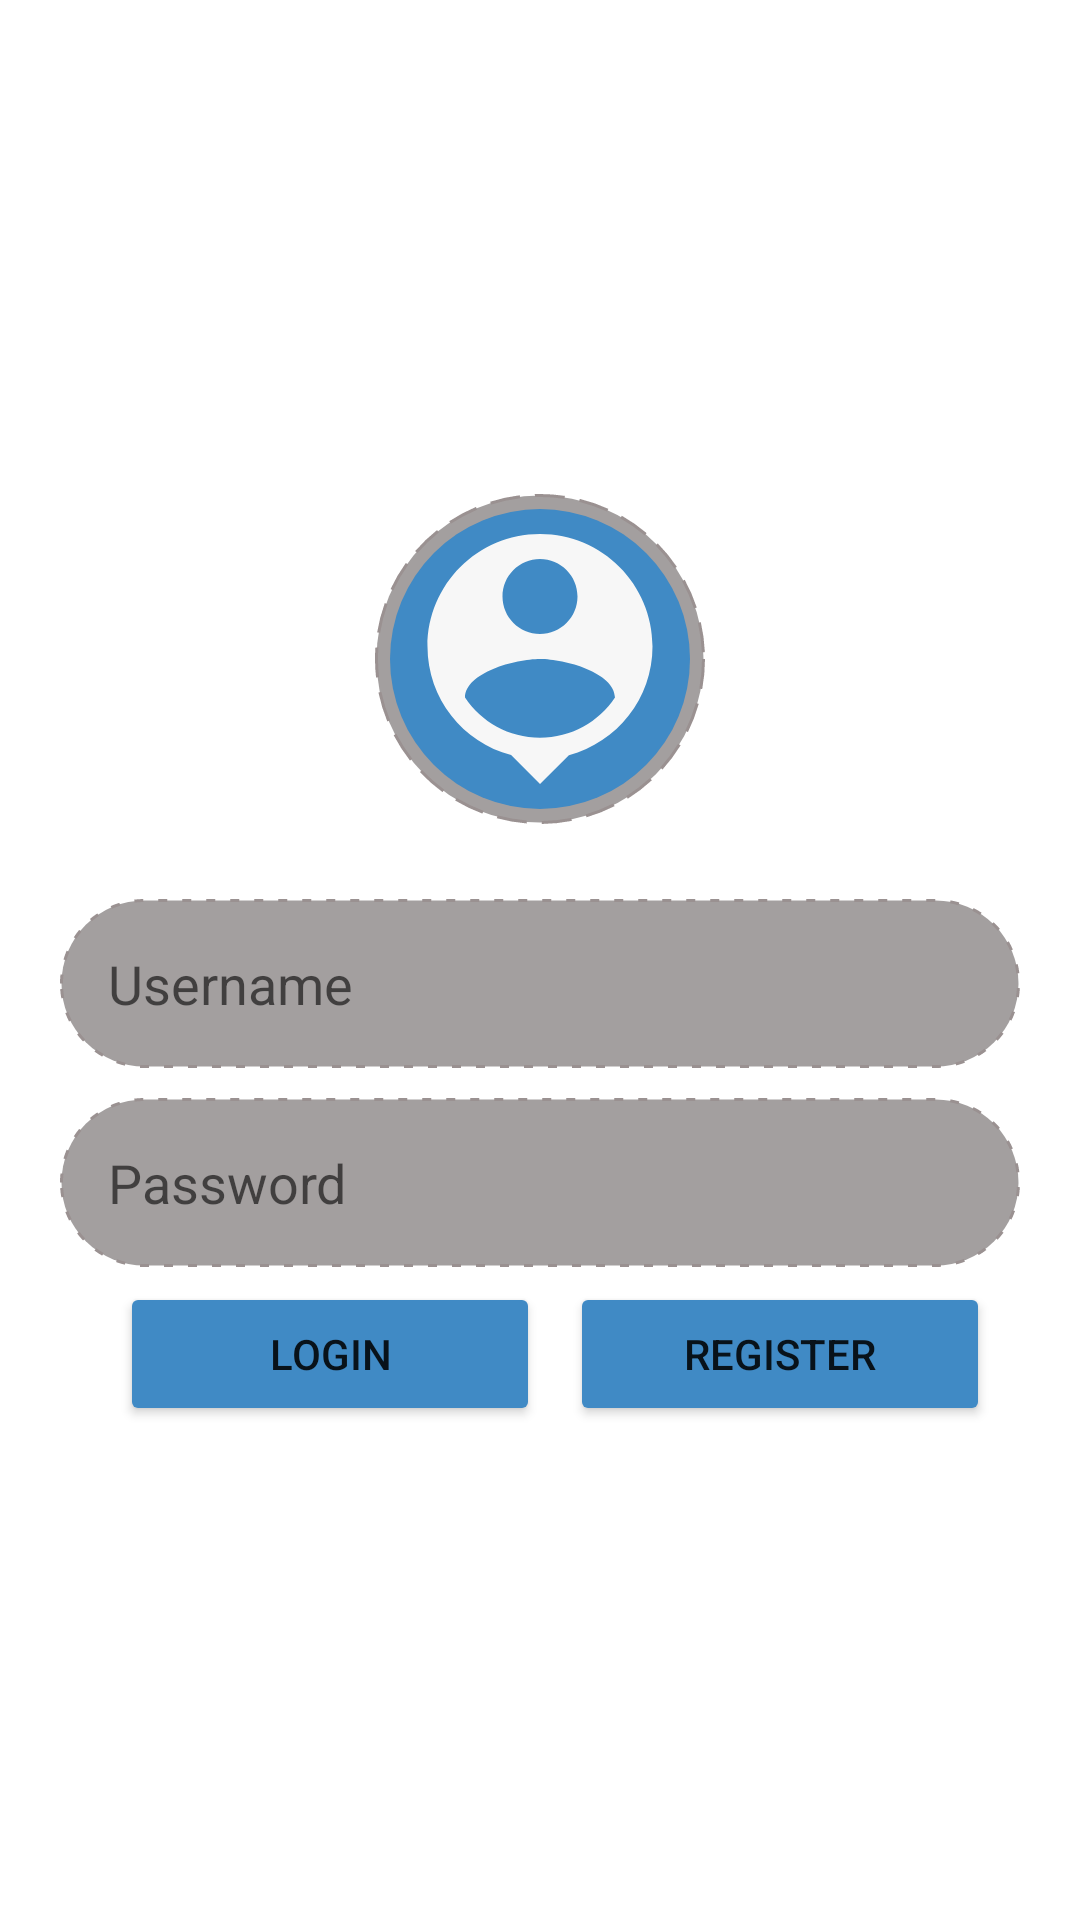

Icon bounding boxes for this 1080*1920 phone screenshot, format (x1, y1, x2, y2):
person pin: (390, 509, 690, 809)
